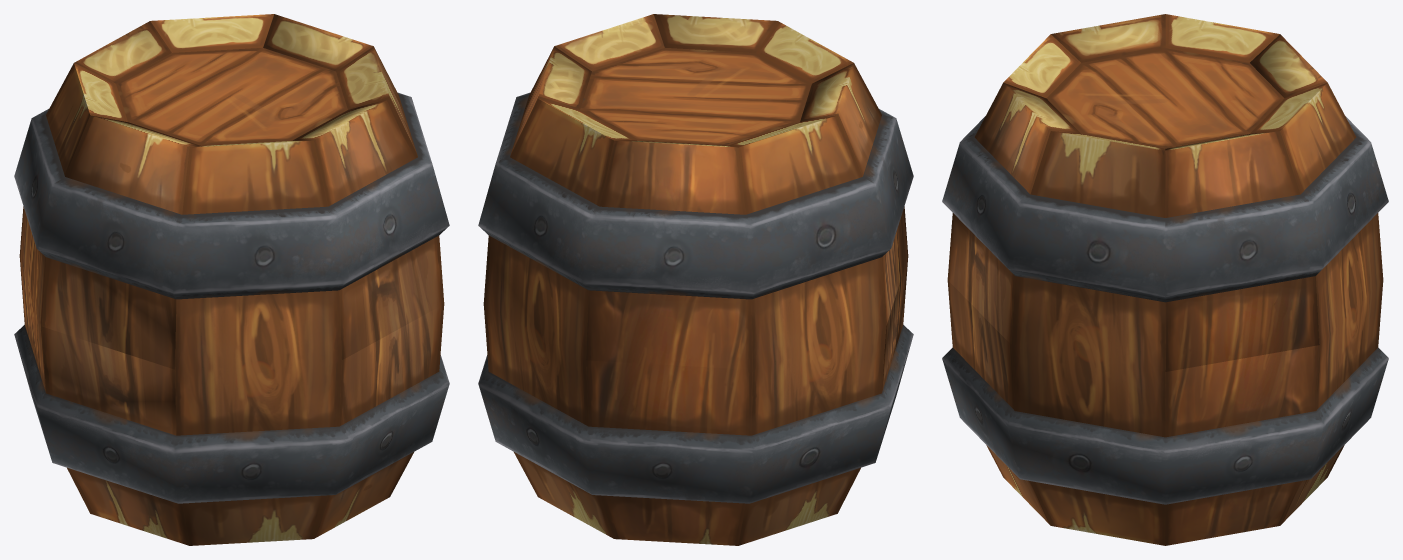
File: barrel.FBX
The picture shows the model from 3 angles, left to right: view 1: azimuth 30°, elevation 25°; view 2: azimuth 150°, elevation 25°; view 3: azimuth 270°, elevation 25°; orthographic projection.
Parts seen in each view (by area): view 1: barrel; view 2: barrel; view 3: barrel.
Part boxes in pixels (x1,y1,x2,y2): barrel: [14, 14, 449, 545]; barrel: [478, 14, 913, 545]; barrel: [942, 14, 1388, 545].
Bounding box in the file's own units: 103 × 100 × 103.
